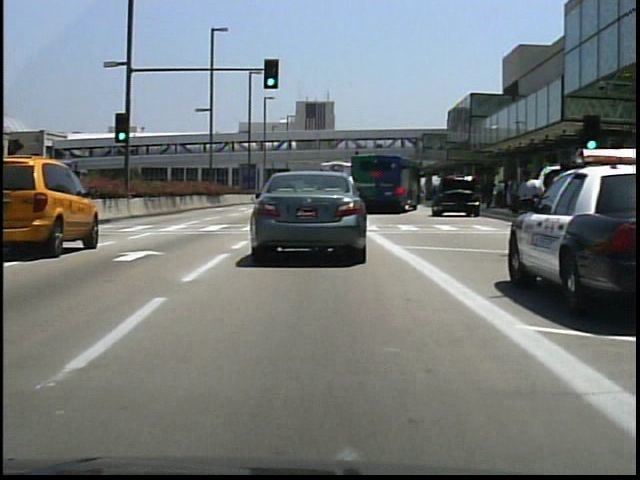person: (507, 164, 545, 261), (38, 167, 55, 225), (58, 172, 78, 220)
